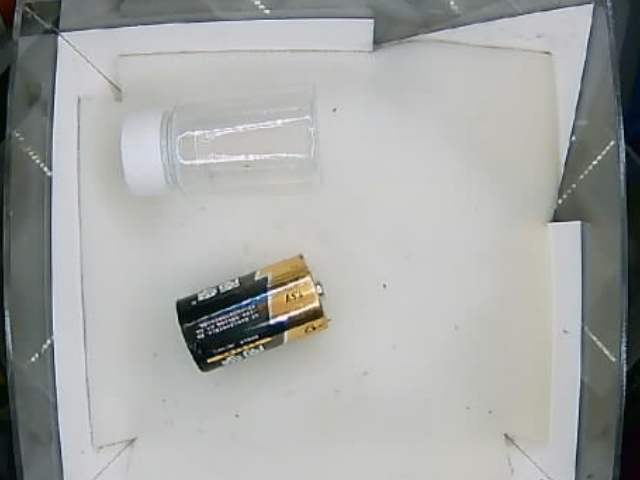Battery: (173, 255, 331, 373)
Bottle: (117, 87, 327, 200)
